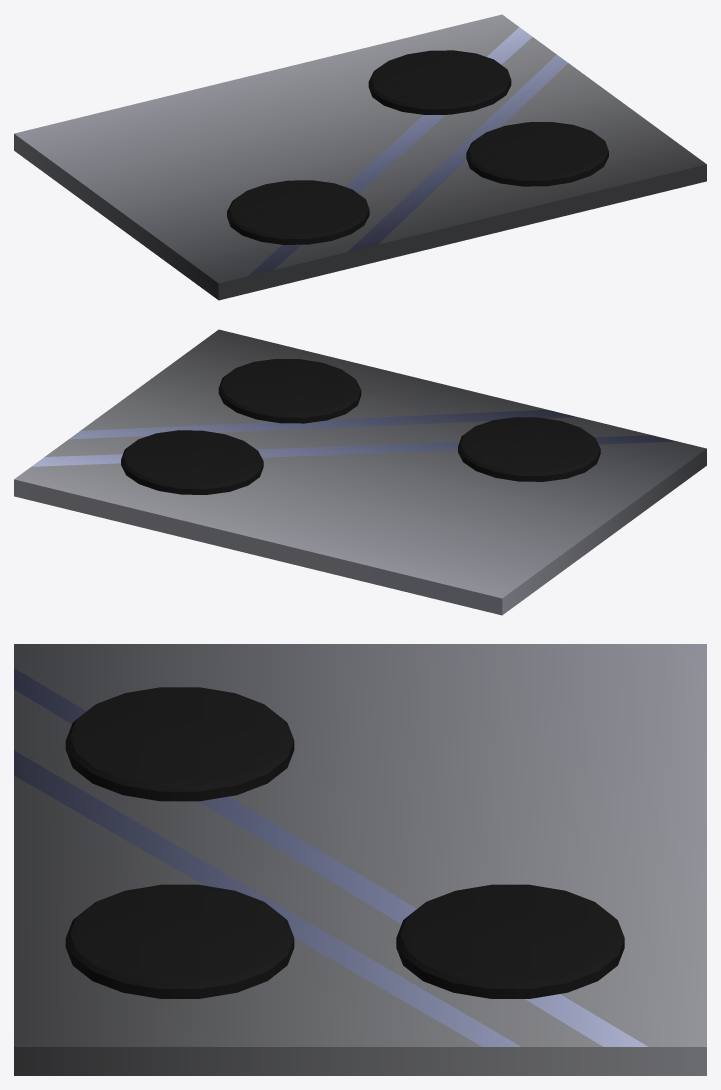
The model's file is Cooker_3.fbx.
The picture shows the model from 3 angles, top to bottom: view 1: azimuth 30°, elevation 25°; view 2: azimuth 150°, elevation 25°; view 3: azimuth 270°, elevation 25°; orthographic projection. The views are drawn at different scales.
Parts seen in each view (by area): view 1: Cooker; view 2: Cooker; view 3: Cooker.
Part boxes in pixels (x1=…): Cooker: x1=14, y1=14, x2=706, y2=300; Cooker: x1=14, y1=329, x2=706, y2=615; Cooker: x1=14, y1=644, x2=706, y2=1075.
Size of the model in its own units: 1.14 by 0.0586 by 0.8292.
